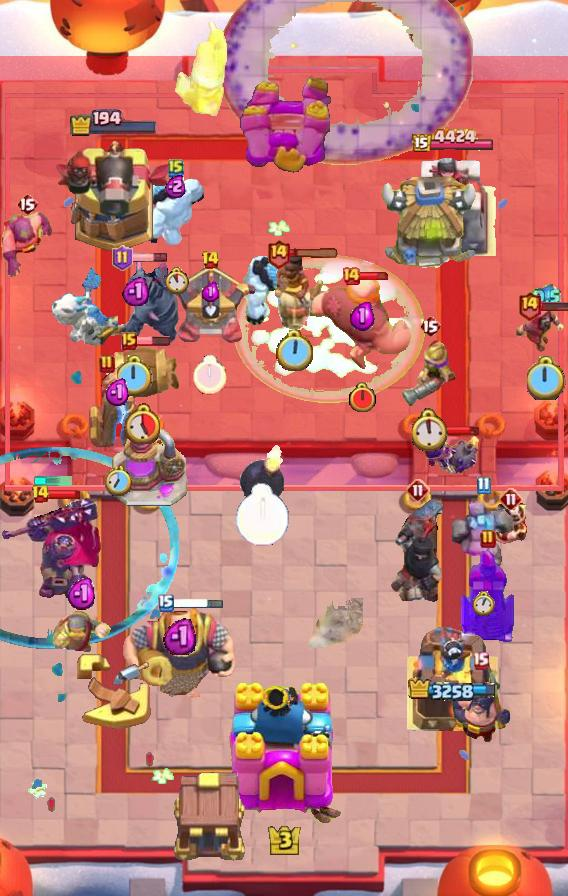baby-dragon: (239, 443, 285, 502)
balloon: (310, 274, 414, 374)
bomb: (168, 769, 248, 863)
bomb-tower: (401, 338, 459, 408)
bowler: (516, 303, 568, 353)
electro-spirit: (163, 616, 196, 655), (67, 577, 97, 611), (123, 275, 150, 306), (350, 301, 375, 332), (532, 284, 561, 310), (105, 378, 131, 406), (165, 174, 187, 198), (201, 282, 218, 302)
elite-barbarian: (272, 250, 318, 330)
elixir: (235, 483, 290, 547), (277, 329, 316, 374), (527, 356, 566, 400), (411, 409, 448, 452), (117, 356, 153, 397), (124, 403, 160, 444), (193, 355, 227, 395), (348, 382, 376, 414), (104, 466, 131, 496), (162, 267, 189, 295), (473, 591, 496, 617)
emote: (171, 597, 225, 610), (288, 248, 340, 259), (135, 335, 171, 347), (444, 425, 480, 437), (132, 252, 169, 263), (47, 488, 81, 499), (540, 300, 568, 312), (359, 271, 391, 281)
firecracker: (172, 21, 228, 119), (52, 609, 112, 654)
fisherman: (303, 598, 363, 656)
giant-skeleton: (121, 601, 237, 701)
goblin-ball: (422, 434, 480, 478)
goblin-brawler: (84, 364, 152, 450)
golemite: (87, 254, 183, 346)
ice-spirit: (33, 476, 73, 486)
ice-spirit-evolution-symbol: (458, 550, 518, 646)
inferno-dragon: (388, 498, 448, 604)
inferno-tower: (0, 494, 106, 604)
king-tower: (222, 680, 346, 826)
lava-pup: (164, 263, 256, 345)
lumberjack: (490, 500, 532, 548)
mini-pekka: (48, 266, 118, 348)
monk: (449, 667, 511, 745), (0, 209, 54, 279)
pad_0: (1, 446, 180, 650)
pekka: (111, 426, 189, 508)
phoenix-big: (232, 252, 426, 403)
prince: (379, 177, 481, 273)
queen-tower: (407, 627, 499, 731), (410, 156, 496, 256)
rage: (143, 173, 209, 247), (236, 254, 296, 326)
rocket: (217, 0, 473, 164)
selected: (69, 109, 159, 137), (409, 676, 500, 703), (411, 128, 495, 155)
text: (266, 238, 291, 269), (518, 291, 543, 322), (406, 478, 430, 502), (499, 487, 523, 511), (112, 245, 133, 271), (16, 192, 38, 216), (419, 314, 441, 338), (341, 266, 361, 286), (200, 250, 219, 270), (31, 484, 50, 504), (168, 158, 184, 178), (99, 354, 115, 374), (480, 529, 496, 549), (471, 651, 488, 669), (121, 332, 137, 350), (158, 594, 174, 612), (477, 477, 492, 496)
the-log: (102, 344, 182, 404)
tower-bar: (53, 138, 175, 256)
valkyrie-evolution: (452, 495, 514, 571)
